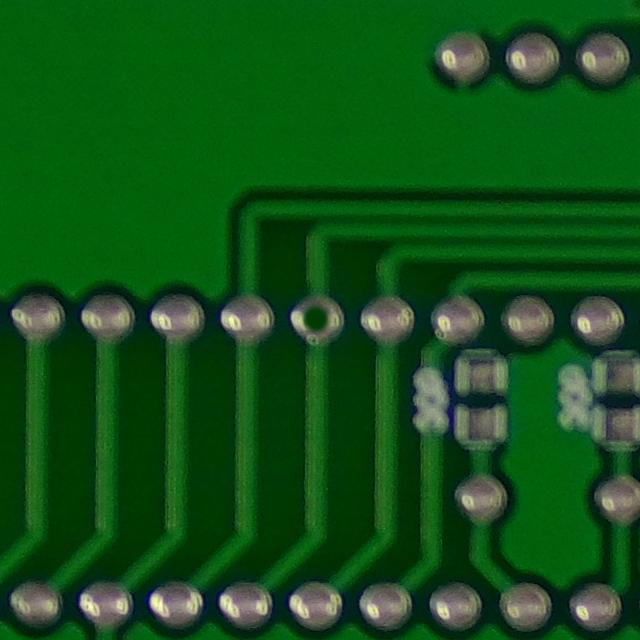missing_hole: (283, 290, 353, 352)
